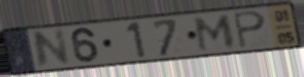1: (126, 21, 148, 61)
6: (70, 27, 101, 64)
7: (152, 17, 179, 58)
M: (194, 13, 237, 53)
N: (31, 27, 73, 71)
P: (231, 10, 268, 50)
